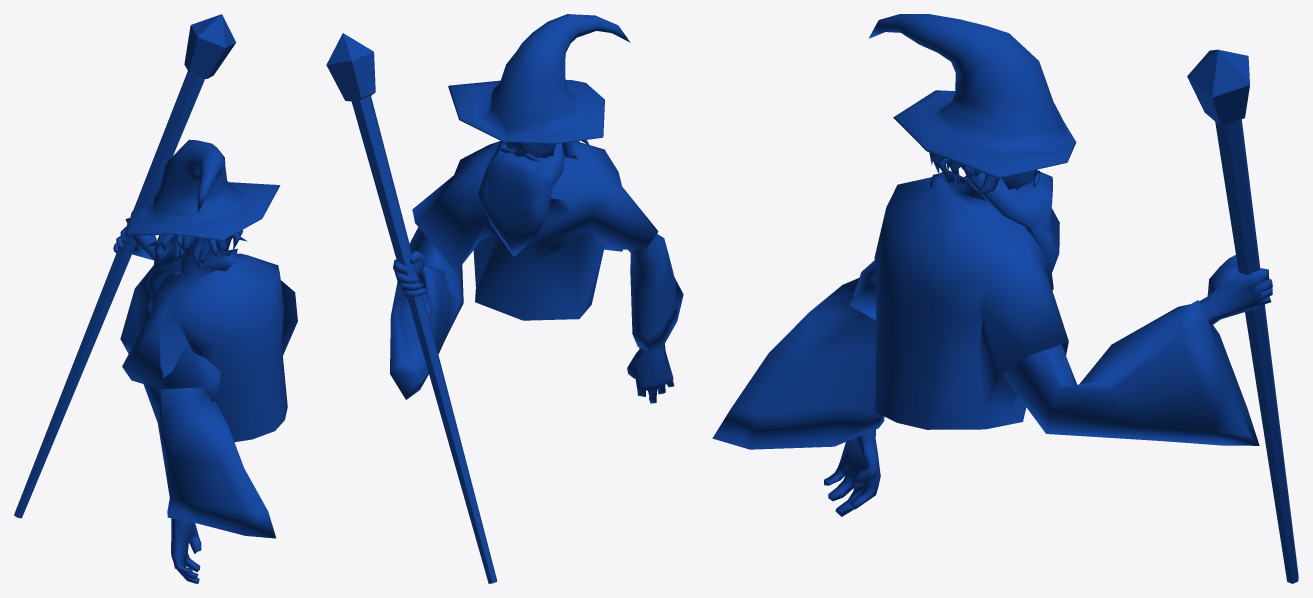
The model's file is top_000068.obj.
3 renders of one model, left to right at view 1: azimuth 30°, elevation 25°; view 2: azimuth 150°, elevation 25°; view 3: azimuth 270°, elevation 25°, orthographic. The views are drawn at different scales.
Parts seen in each view (by area): view 1: Wizard_Plane.002; view 2: Wizard_Plane.002; view 3: Wizard_Plane.002.
Boxes of the visible parts, box(x1,y1,x2,y2) form: Wizard_Plane.002: box(14, 14, 297, 583); Wizard_Plane.002: box(326, 14, 683, 583); Wizard_Plane.002: box(712, 14, 1298, 583).
Bounding box in the file's own units: 0.7756 × 1.64 × 1.35.
